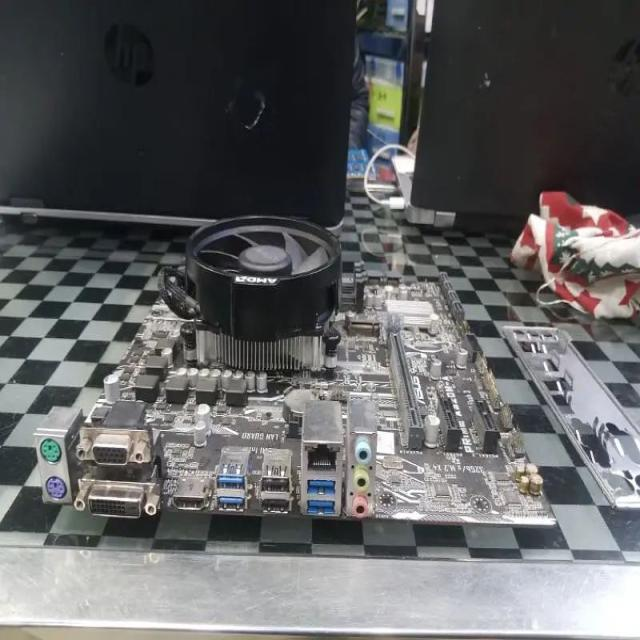electronic: (18, 152, 581, 571)
